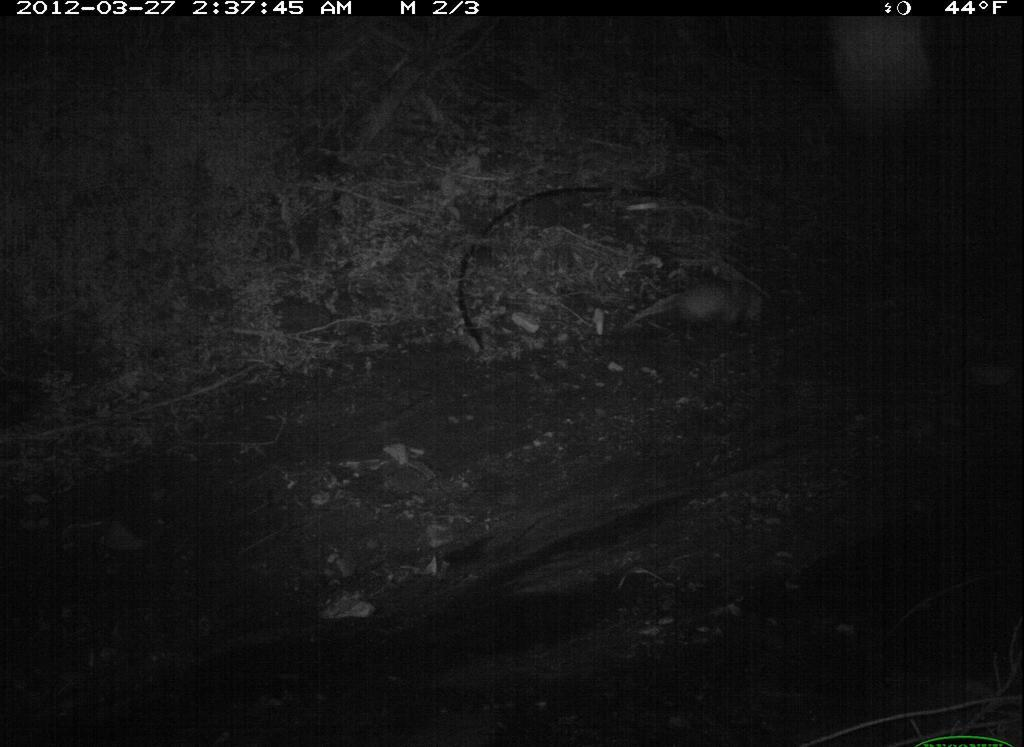opossum: (621, 271, 786, 354)
